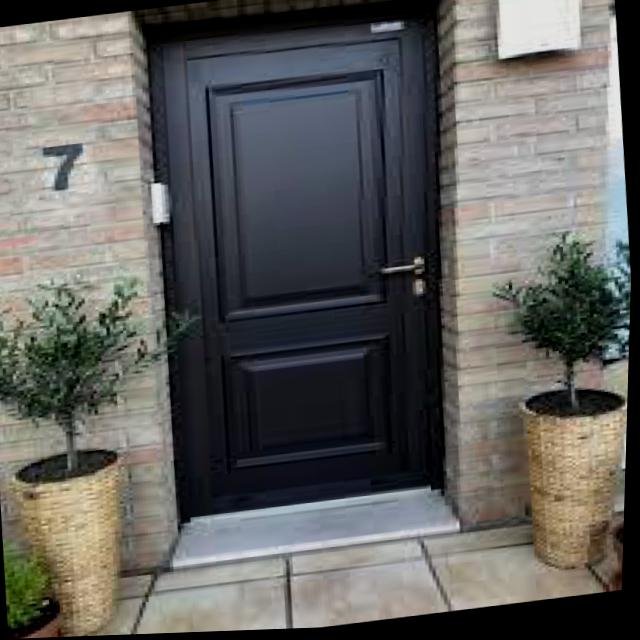close: (108, 0, 497, 547)
